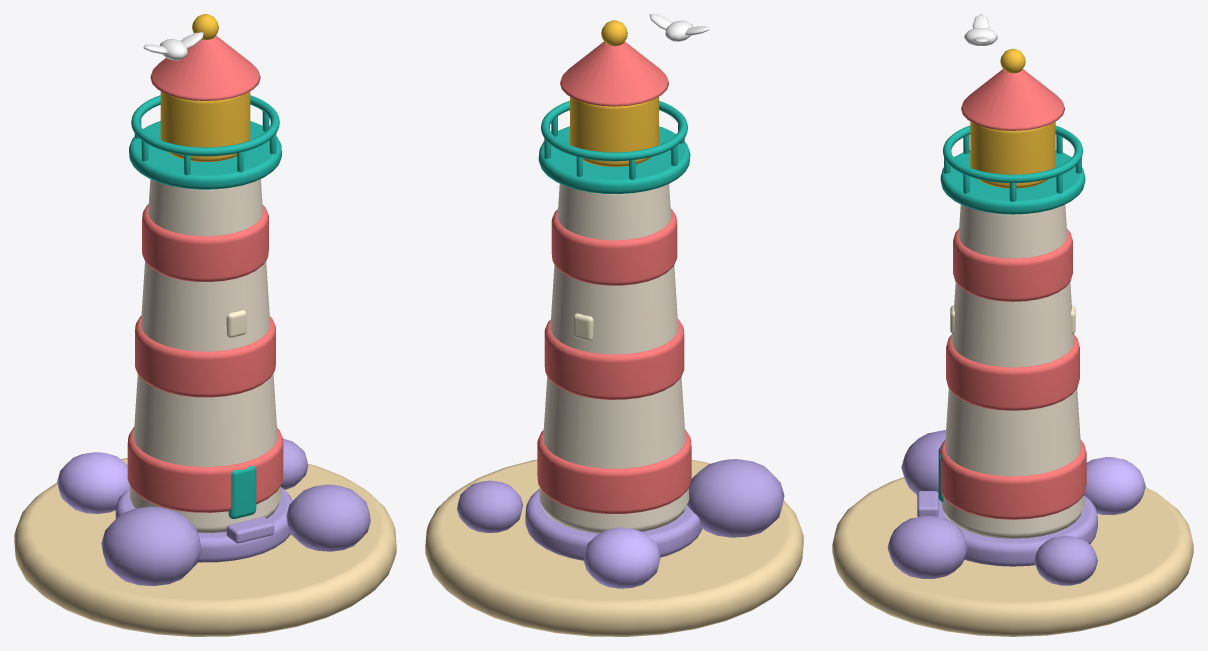
Rendered from DecorLighthouse.fbx.
3 views of the same model, side by side, from view 1: azimuth 30°, elevation 25°; view 2: azimuth 150°, elevation 25°; view 3: azimuth 270°, elevation 25° (orthographic). The views are drawn at different scales.
Visible parts, largest first — view 1: DecorLighthouse mesh; view 2: DecorLighthouse mesh; view 3: DecorLighthouse mesh.
Part boxes in pixels (box(x1,y1,x2,y2)): DecorLighthouse mesh: box(14, 14, 396, 636); DecorLighthouse mesh: box(425, 14, 803, 636); DecorLighthouse mesh: box(832, 14, 1193, 636).
Size of the model in its own units: 0.34 by 0.5351 by 0.34.
